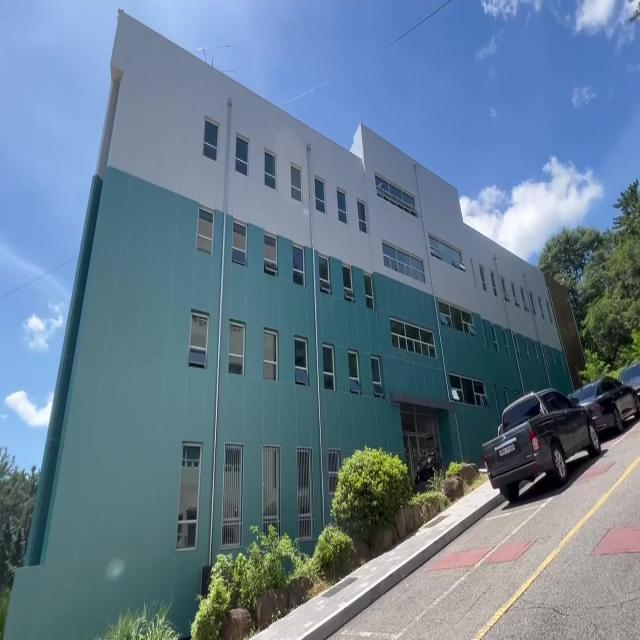building: (50, 19, 498, 442)
